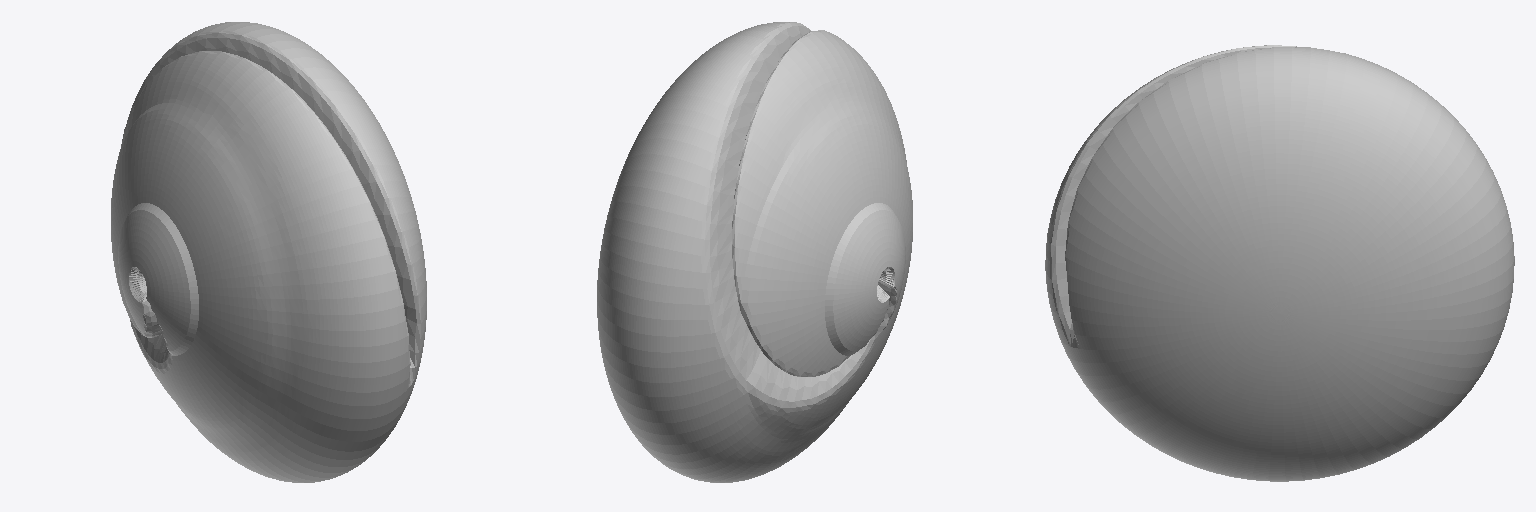
File: snail_shell_02.obj
3 views of the same model, side by side, from view 1: azimuth 30°, elevation 25°; view 2: azimuth 150°, elevation 25°; view 3: azimuth 270°, elevation 25° (orthographic).
Visible parts, largest first — view 1: pSphere8; view 2: pSphere8; view 3: pSphere8.
Part boxes in pixels (left/top/right/bottom): pSphere8: left=111, top=22, right=426, bottom=482; pSphere8: left=597, top=22, right=912, bottom=482; pSphere8: left=1045, top=45, right=1514, bottom=481.
Bounding box in the file's own units: 3.5 × 6.01 × 6.01.